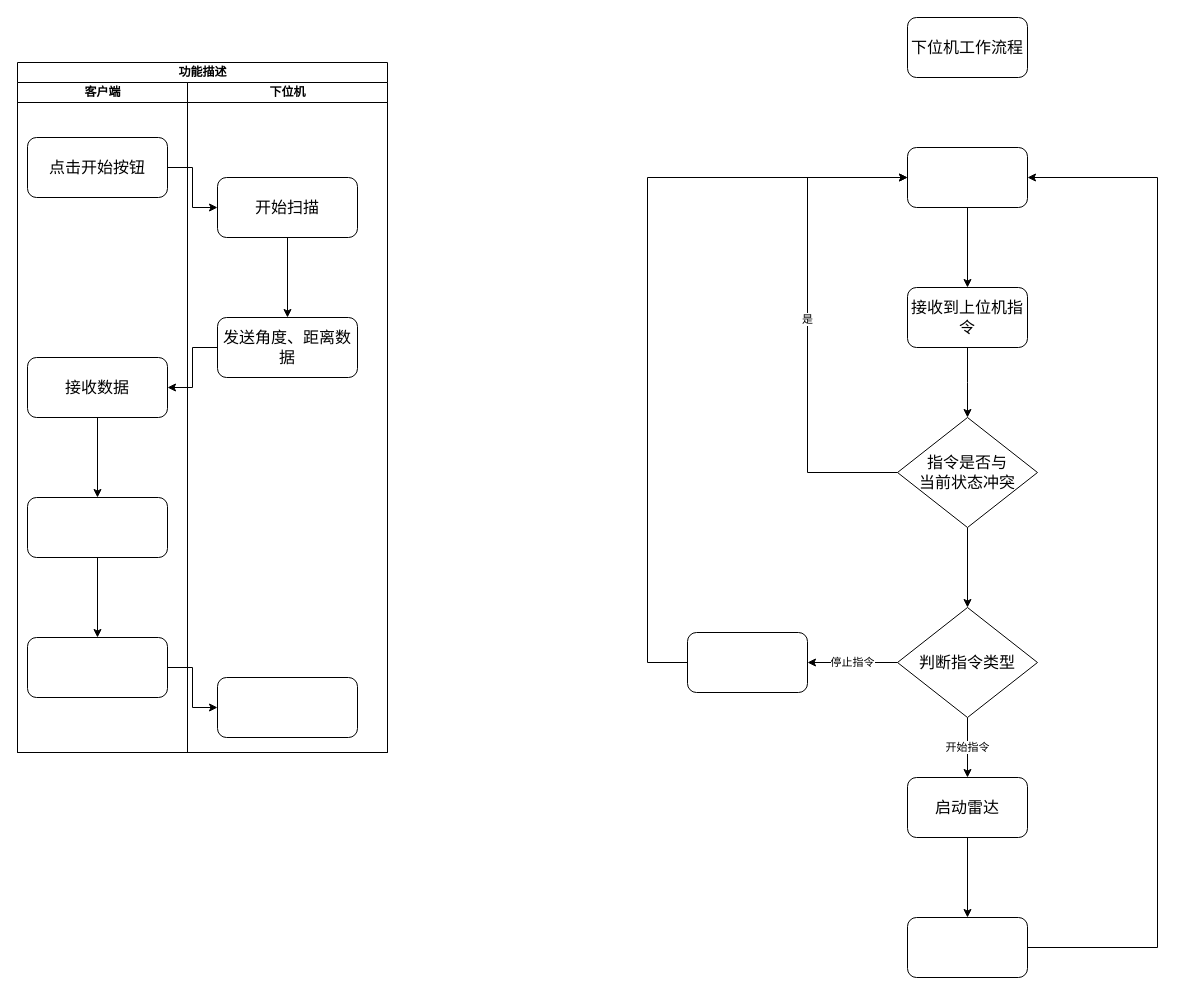
Image size: 1183x995. Some labels were removed from this diagram. The shapes that lost their labels are listed below. From the top down, each one's centre as x and y in pixels, then its label:
At [967,177]: "等待上位机指令".
At [97,527]: "显示数据".
At [97,667]: "点击停止按钮".
At [747,662]: "停止雷达".
At [287,707]: "停止工作".
At [967,947]: "创建发送线程".
